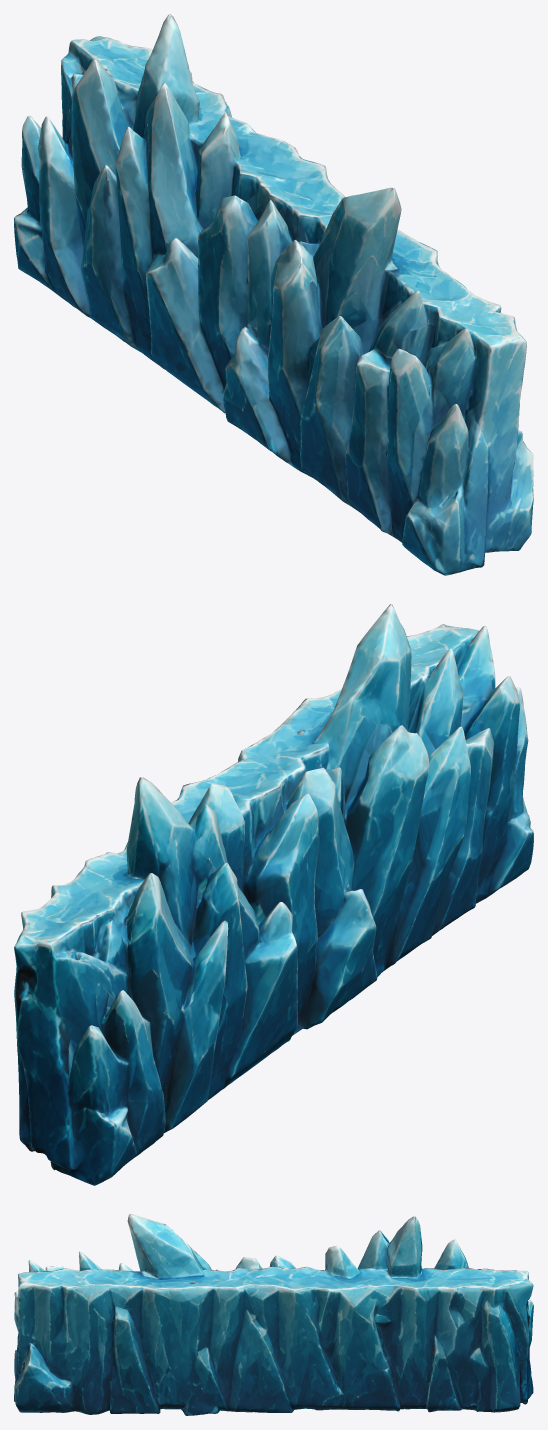
The model's file is IceWall_02.fbx.
The picture shows the model from 3 angles, top to bottom: view 1: azimuth 30°, elevation 25°; view 2: azimuth 150°, elevation 25°; view 3: azimuth 270°, elevation 25°; orthographic projection. The views are drawn at different scales.
Parts seen in each view (by area): view 1: texture_mapping; view 2: texture_mapping; view 3: texture_mapping.
Part boxes in pixels (x1,y1,x2,y2): texture_mapping: [14, 14, 533, 575]; texture_mapping: [14, 604, 533, 1185]; texture_mapping: [14, 1214, 533, 1415].
Bounding box in the file's own units: 0.1934 × 1 × 0.4114.
Materials: 1 (1 with a texture image).
